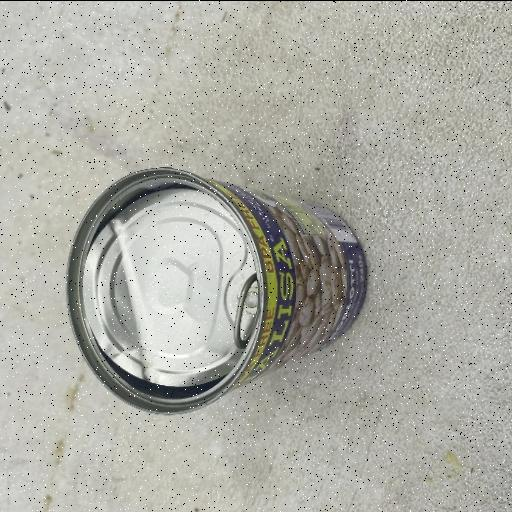Metal: (64, 164, 368, 416)
